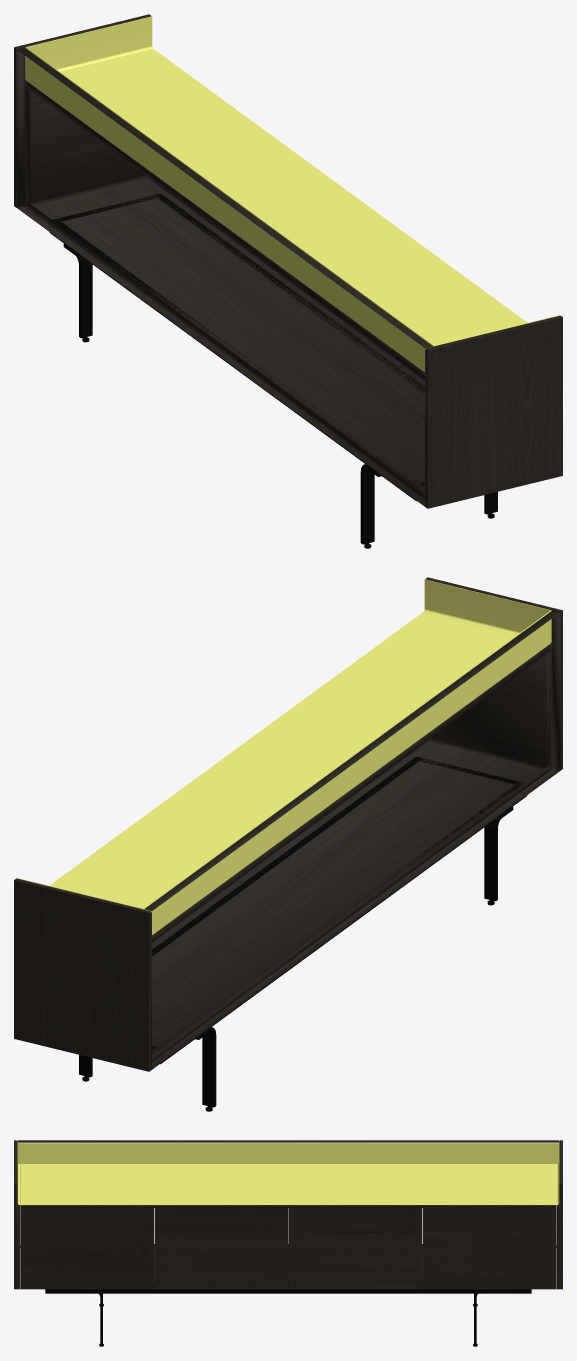
Rendered from Stockholm sideboard by Punt.fbx.
3 views of the same model, one above another, from view 1: azimuth 30°, elevation 25°; view 2: azimuth 150°, elevation 25°; view 3: azimuth 270°, elevation 25° (orthographic). The views are drawn at different scales.
Visible parts, largest first — view 1: Punt_Stockholm_board, Punt_Stockholm_metal_part, Punt_Stockholm_legs; view 2: Punt_Stockholm_board, Punt_Stockholm_metal_part, Punt_Stockholm_legs; view 3: Punt_Stockholm_board, Punt_Stockholm_metal_part, Punt_Stockholm_legs.
Boxes of the visible parts, left/top/right/bottom form: Punt_Stockholm_board: left=14, top=14, right=562, bottom=508; Punt_Stockholm_metal_part: left=25, top=16, right=560, bottom=371; Punt_Stockholm_legs: left=49, top=193, right=497, bottom=548; Punt_Stockholm_board: left=14, top=577, right=562, bottom=1071; Punt_Stockholm_metal_part: left=16, top=579, right=551, bottom=934; Punt_Stockholm_legs: left=79, top=756, right=527, bottom=1111; Punt_Stockholm_board: left=14, top=1140, right=562, bottom=1289; Punt_Stockholm_metal_part: left=17, top=1143, right=559, bottom=1204; Punt_Stockholm_legs: left=45, top=1250, right=531, bottom=1346.
Bounding box in the file's own units: 45 × 78.45 × 238.
3 materials, 1 textured.
